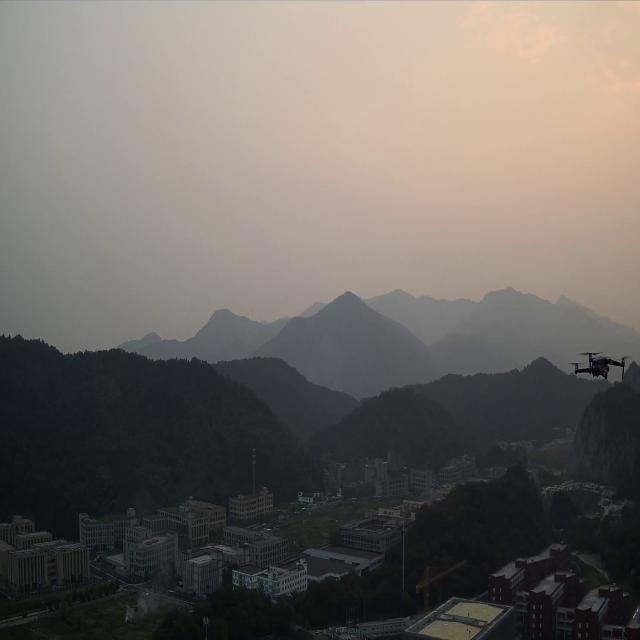UAV: (570, 351, 627, 382)
